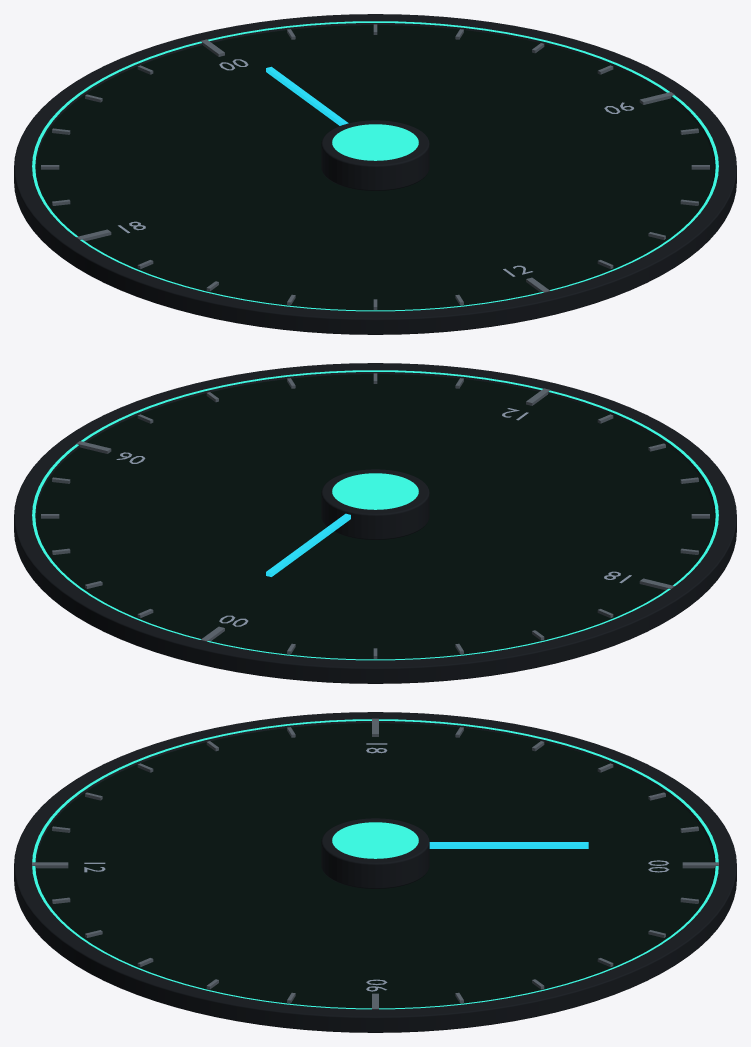
File: dial.glb
3 views of the same model, one above another, from view 1: azimuth 30°, elevation 25°; view 2: azimuth 150°, elevation 25°; view 3: azimuth 270°, elevation 25° (orthographic).
Parts seen in each view (by area): view 1: Dial_Base, Dial_Hub, Dial_Ticks, Dial_Needle; view 2: Dial_Base, Dial_Hub, Dial_Ticks, Dial_Needle; view 3: Dial_Base, Dial_Hub, Dial_Ticks, Dial_Needle.
Boxes of the visible parts, <box> form: Dial_Base: <box>14,14,736,334</box>; Dial_Hub: <box>321,120,429,190</box>; Dial_Ticks: <box>41,24,709,309</box>; Dial_Needle: <box>266,66,348,125</box>; Dial_Base: <box>14,363,736,683</box>; Dial_Hub: <box>321,469,429,539</box>; Dial_Ticks: <box>41,373,709,658</box>; Dial_Needle: <box>266,513,350,576</box>; Dial_Base: <box>14,712,736,1032</box>; Dial_Hub: <box>321,818,429,888</box>; Dial_Ticks: <box>32,718,718,1009</box>; Dial_Needle: <box>429,842,588,848</box>.
Size of the model in its own units: 4 by 0.245 by 4.
